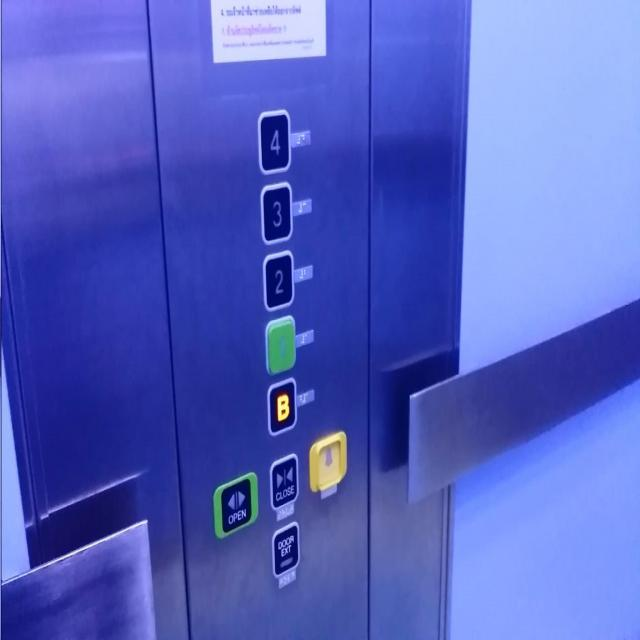1: (264, 313, 297, 375)
2: (261, 249, 297, 313)
3: (259, 175, 294, 249)
4: (254, 105, 293, 177)
B: (265, 376, 298, 437)
alarm: (307, 428, 348, 497)
close: (266, 448, 300, 512)
open: (211, 467, 259, 541)
text: (269, 515, 303, 580)
